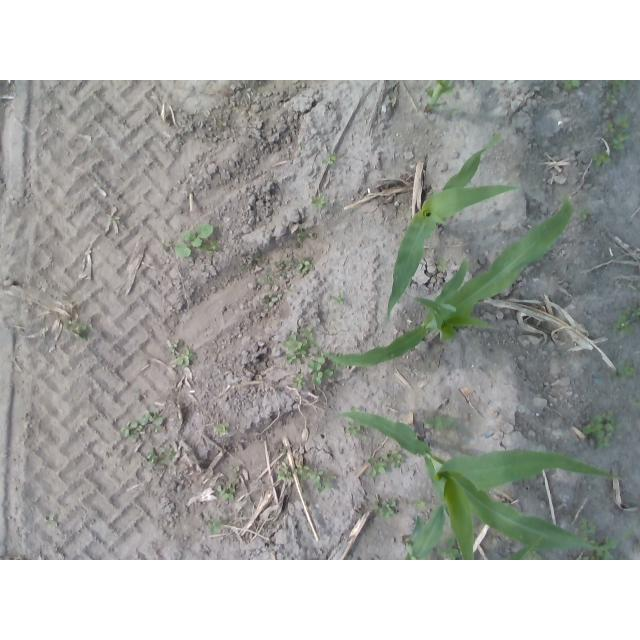Maize: (306, 193, 574, 372), (330, 412, 623, 561), (389, 134, 522, 325), (401, 500, 540, 560), (424, 81, 456, 116)
Weeds: (582, 409, 623, 451), (174, 224, 218, 258), (292, 460, 337, 492), (118, 407, 162, 439), (306, 351, 334, 387), (605, 114, 632, 150), (146, 444, 175, 468), (282, 333, 303, 366), (611, 306, 634, 334), (611, 359, 637, 383), (65, 317, 90, 339), (606, 80, 628, 105), (437, 537, 460, 560), (576, 516, 597, 540), (425, 416, 456, 432), (372, 498, 396, 518), (299, 327, 315, 357), (382, 449, 407, 468), (368, 457, 389, 478), (175, 347, 193, 369), (578, 549, 613, 560), (348, 420, 367, 440), (590, 151, 612, 168), (293, 257, 313, 275), (273, 462, 291, 481), (216, 484, 236, 501), (262, 293, 282, 309), (277, 259, 292, 278), (520, 548, 543, 560), (207, 517, 222, 535), (311, 194, 327, 210), (291, 373, 305, 389), (321, 153, 337, 167), (295, 231, 308, 247), (564, 80, 581, 92), (332, 291, 345, 305), (577, 208, 592, 220), (434, 258, 447, 271), (215, 422, 229, 434), (411, 498, 426, 508), (42, 515, 54, 526), (631, 303, 640, 316), (587, 539, 601, 547), (169, 339, 179, 350), (264, 275, 273, 285), (634, 393, 640, 408), (333, 362, 343, 370), (107, 215, 120, 221), (350, 406, 360, 413), (603, 536, 612, 543), (254, 252, 261, 261), (233, 465, 240, 473), (336, 352, 345, 357), (452, 108, 457, 116), (239, 266, 246, 271), (309, 231, 314, 237)
